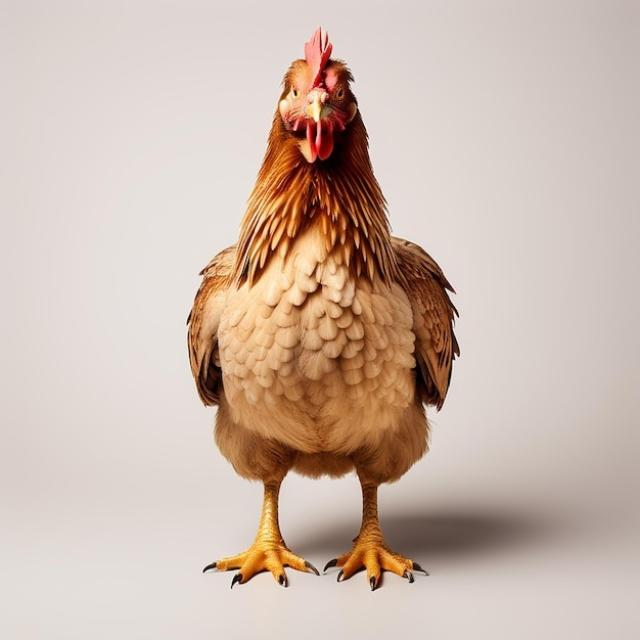Chicken: (187, 26, 463, 592)
